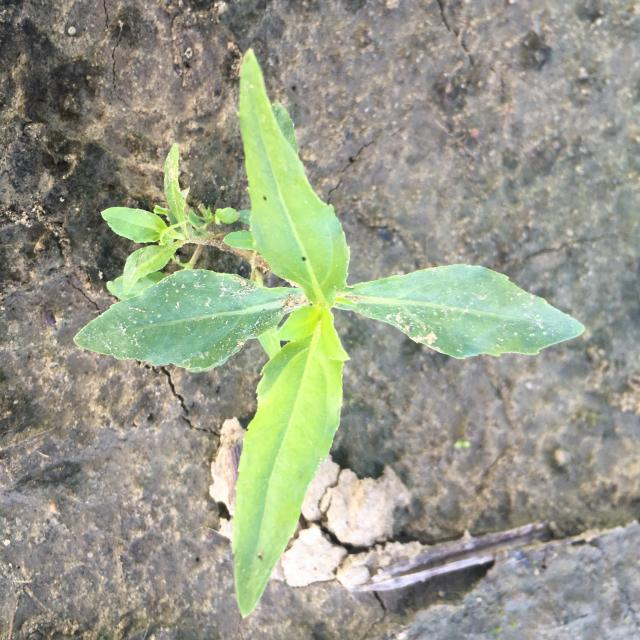Eclipta: (73, 48, 585, 620)
